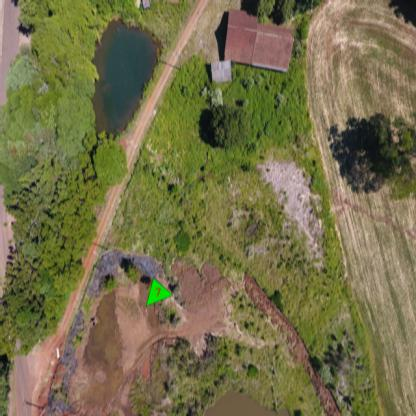7: (154, 286, 163, 298)
triangle: (145, 276, 173, 310)
